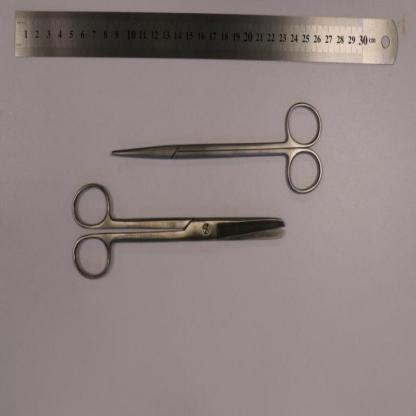7 Metzenbaum Scissors: (112, 101, 322, 198)
Dressing Scissors: (71, 180, 285, 280)
